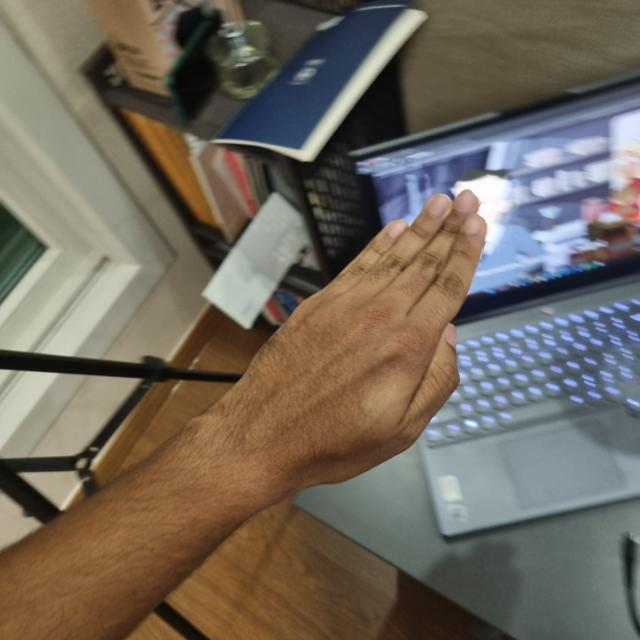Paper: (241, 198, 485, 480)
